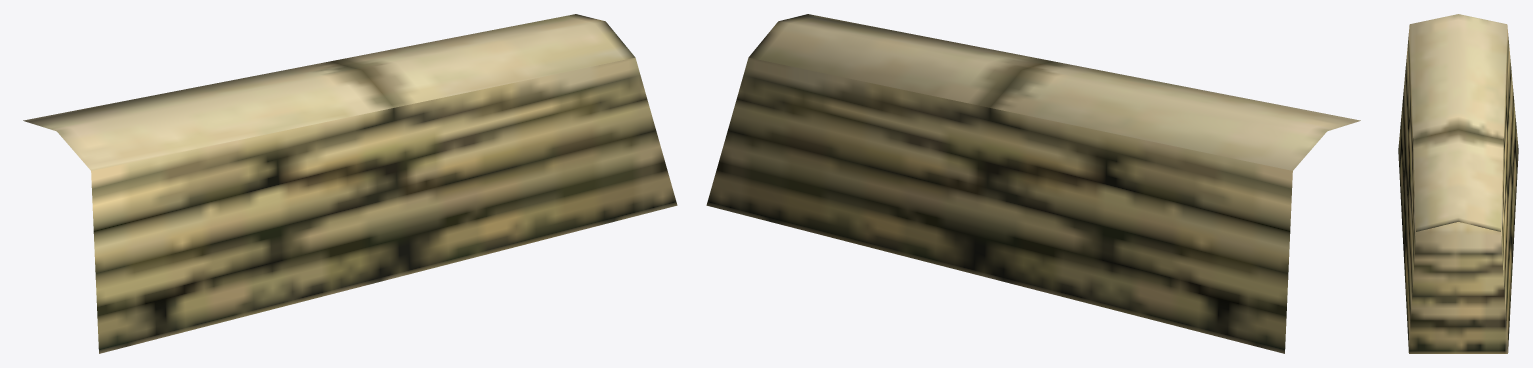
File: Sandbags_LowPoly_End.glb
3 views of the same model, side by side, from view 1: azimuth 30°, elevation 25°; view 2: azimuth 150°, elevation 25°; view 3: azimuth 270°, elevation 25° (orthographic). The views are drawn at different scales.
Parts seen in each view (by area): view 1: SANDBAGS_LOWPOLY_END; view 2: SANDBAGS_LOWPOLY_END; view 3: SANDBAGS_LOWPOLY_END.
Boxes of the visible parts, x1=… form: SANDBAGS_LOWPOLY_END: x1=23, y1=14, x2=677, y2=353; SANDBAGS_LOWPOLY_END: x1=706, y1=14, x2=1360, y2=353; SANDBAGS_LOWPOLY_END: x1=1398, y1=14, x2=1518, y2=353.
Bounding box in the file's own units: 2 × 0.625 × 0.5.
Materials: 1 (1 with a texture image).
